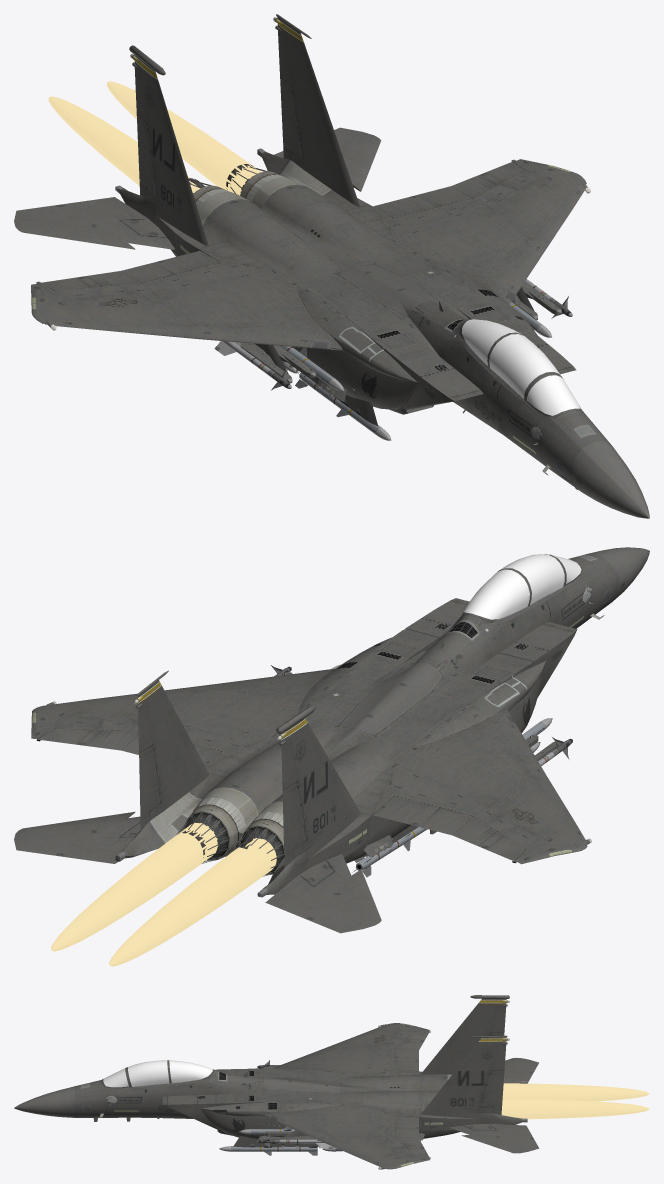
Rendered from plaane.glb.
3 views of the same model, one above another, from view 1: azimuth 30°, elevation 25°; view 2: azimuth 150°, elevation 25°; view 3: azimuth 270°, elevation 25° (orthographic). The views are drawn at different scales.
Visible parts, largest first — view 1: jetstrike.087, Thrust.001, jetstrike.122, jetstrike.105, jetstrike.096, jetstrike.098, jetstrike.094, jetstrike.092, jetstrike.102, jetstrike.100, jetstrike.118, jetstrike.114; view 2: jetstrike.087, Thrust.001, jetstrike.122, jetstrike.105, jetstrike.096, jetstrike.094, jetstrike.092, jetstrike.100, jetstrike.102, jetstrike.120; view 3: jetstrike.087, Thrust.001, jetstrike.105, jetstrike.102, jetstrike.122, jetstrike.119, jetstrike.098, jetstrike.096, jetstrike.115, jetstrike.092, jetstrike.094.
Boxes of the visible parts, x1,y1,x2,y2 form: jetstrike.087: [31, 14, 649, 518]; Thrust.001: [48, 81, 261, 195]; jetstrike.122: [14, 197, 174, 249]; jetstrike.105: [274, 127, 381, 191]; jetstrike.096: [121, 251, 220, 282]; jetstrike.098: [373, 186, 471, 217]; jetstrike.094: [451, 162, 524, 196]; jetstrike.092: [42, 271, 137, 290]; jetstrike.102: [280, 77, 300, 156]; jetstrike.100: [136, 114, 155, 193]; jetstrike.118: [295, 372, 391, 440]; jetstrike.114: [214, 341, 291, 390]; jetstrike.087: [31, 547, 649, 897]; Thrust.001: [51, 822, 276, 966]; jetstrike.122: [265, 854, 381, 933]; jetstrike.105: [14, 812, 140, 863]; jetstrike.096: [373, 796, 472, 835]; jetstrike.094: [42, 728, 137, 750]; jetstrike.092: [452, 818, 525, 860]; jetstrike.100: [282, 782, 306, 853]; jetstrike.102: [139, 745, 160, 816]; jetstrike.120: [352, 827, 427, 877]; jetstrike.087: [14, 995, 527, 1169]; Thrust.001: [501, 1083, 649, 1119]; jetstrike.105: [450, 1124, 539, 1153]; jetstrike.102: [481, 1070, 504, 1107]; jetstrike.122: [504, 1057, 538, 1082]; jetstrike.119: [219, 1146, 317, 1155]; jetstrike.098: [395, 1115, 418, 1138]; jetstrike.096: [395, 1049, 418, 1071]; jetstrike.115: [257, 1134, 332, 1148]; jetstrike.092: [397, 1031, 428, 1050]; jetstrike.094: [396, 1137, 428, 1156].
Size of the model in its own units: 13.05 by 4.83 by 23.5.
Materials: 8 (4 with a texture image).
